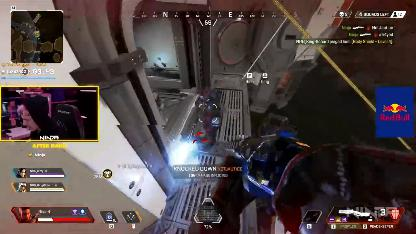Target: (197, 88, 223, 150)
